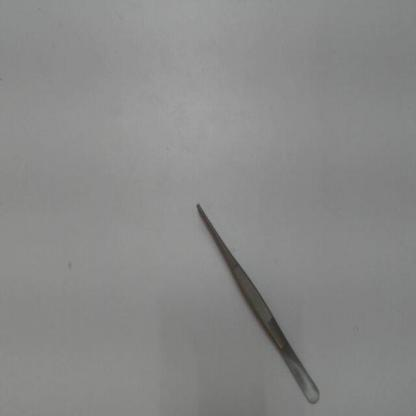Gillies Toothed Dissector: (190, 190, 325, 406)
